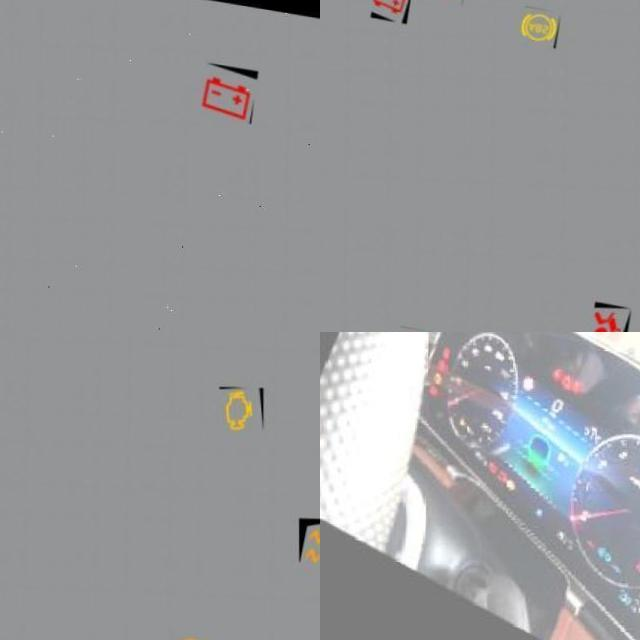Low fuel level: (454, 415, 460, 423)
